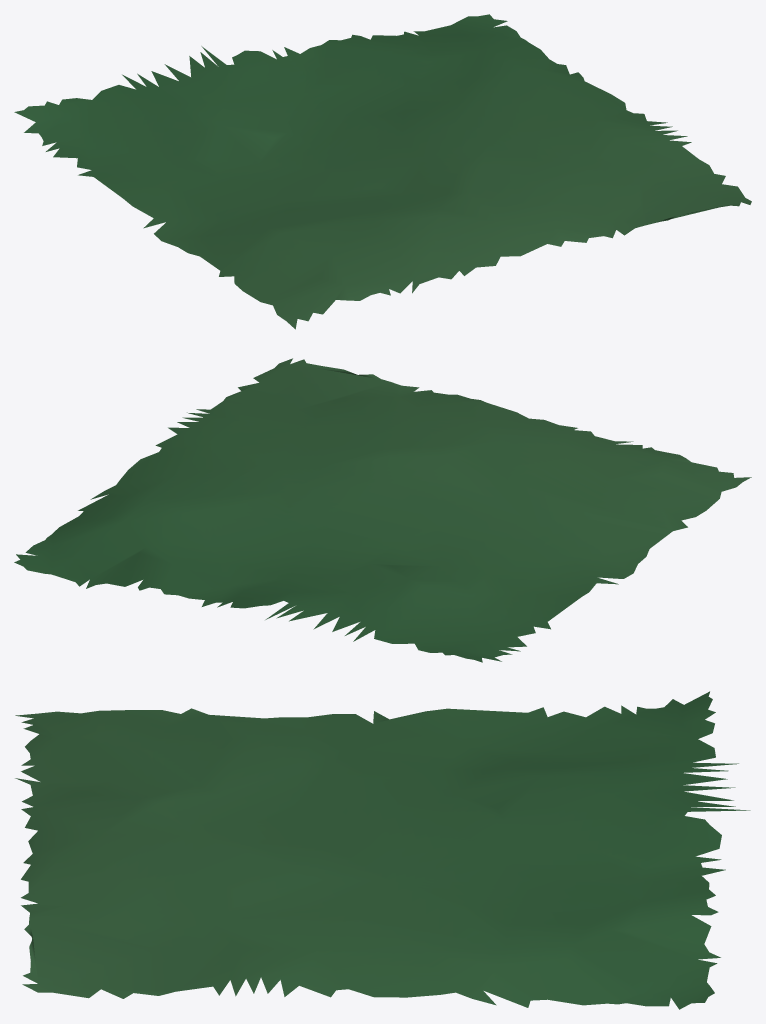
The model's file is payo_land_x3_y7_lod2.glb.
The picture shows the model from 3 angles, top to bottom: view 1: azimuth 30°, elevation 25°; view 2: azimuth 150°, elevation 25°; view 3: azimuth 270°, elevation 25°; orthographic projection. The views are drawn at different scales.
Parts seen in each view (by area): view 1: payo_land_x3_y7; view 2: payo_land_x3_y7; view 3: payo_land_x3_y7.
Part boxes in pixels (x1,y1,x2,y2): payo_land_x3_y7: [14, 14, 751, 329]; payo_land_x3_y7: [14, 358, 751, 662]; payo_land_x3_y7: [15, 691, 750, 1009].
Bounding box in the file's own units: 269 × 16.51 × 277.
